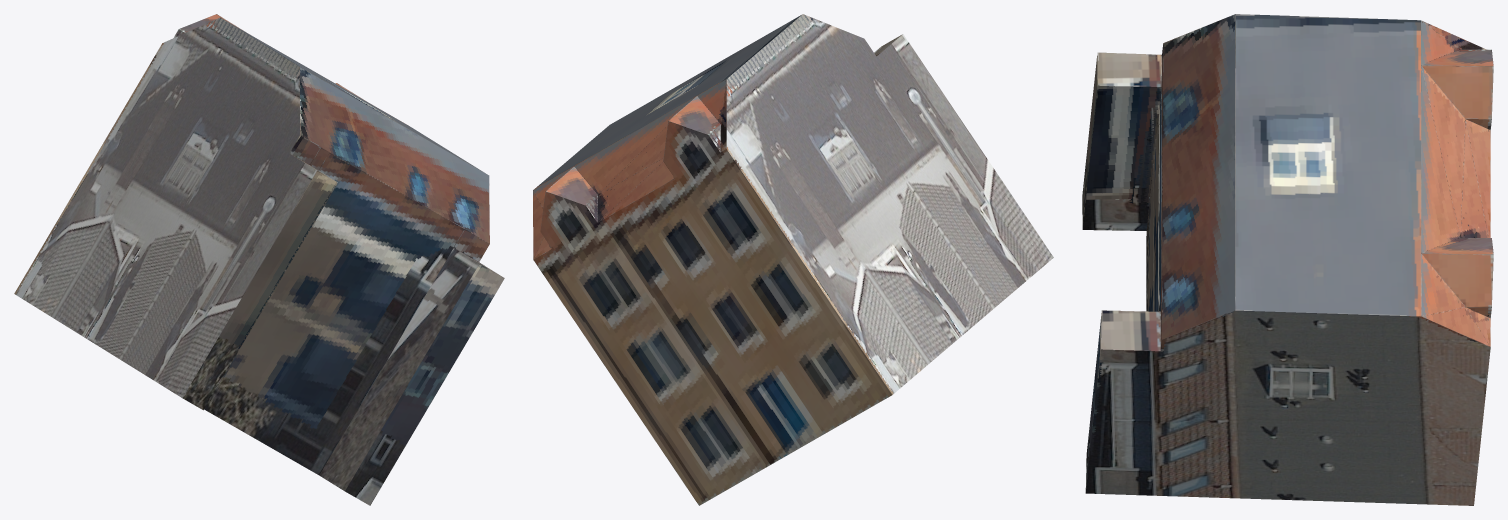
3 views of the same model, side by side, from view 1: azimuth 30°, elevation 25°; view 2: azimuth 150°, elevation 25°; view 3: azimuth 270°, elevation 25° (orthographic). The views are drawn at different scales.
Visible parts, largest first — view 1: BAG_0599100000670806 (×4); view 2: BAG_0599100000670806 (×5); view 3: BAG_0599100000670806 (×5).
Part boxes in pixels (x1,y1,x2,y2): BAG_0599100000670806 (×4): [14, 17, 504, 505]; BAG_0599100000670806 (×5): [533, 14, 1053, 505]; BAG_0599100000670806 (×5): [1082, 14, 1493, 505].
Size of the model in its own units: 16.51 by 17.16 by 13.04.
Materials: 1 (1 with a texture image).
